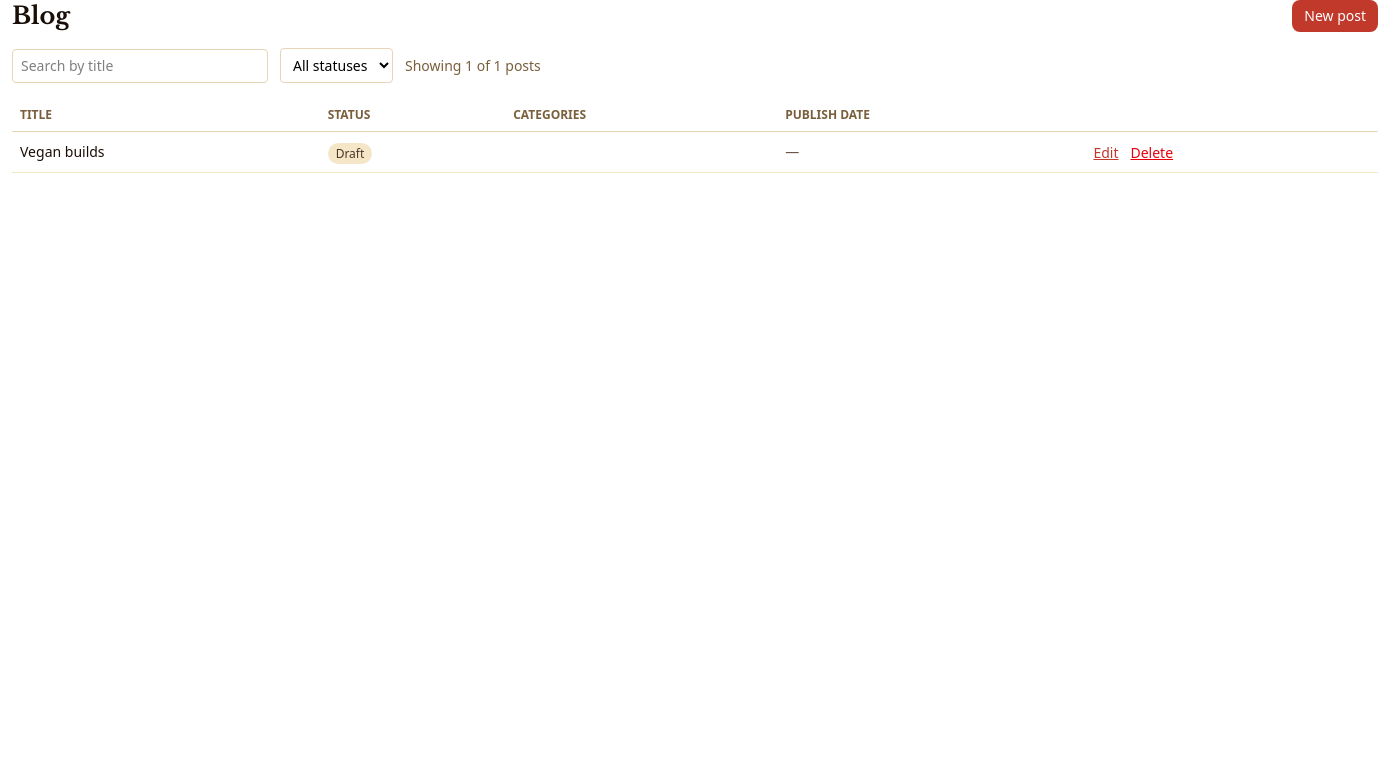
it: BlogManagementPage related sandwiches › stops offering more once ten sandwiches are linked
Expected: the text "Vegan builds" is shown, [12, 132, 320, 172]
Click the button with aria-label "Edit Vegan builds". click: (1106, 153)
box: [1093, 143, 1118, 163]
(page scrolled)
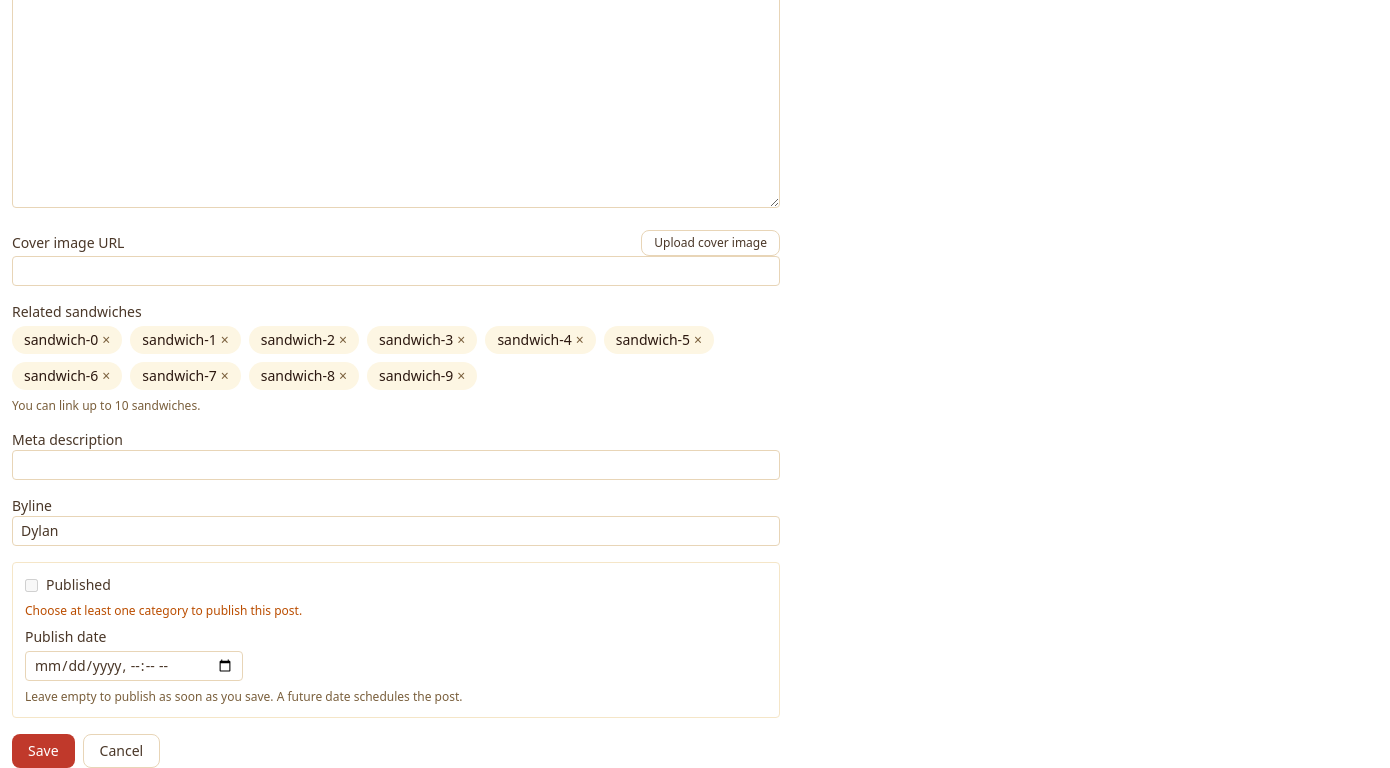
Expected: the text "You can link up to 10 sandwiches." is shown, [12, 397, 200, 414]
